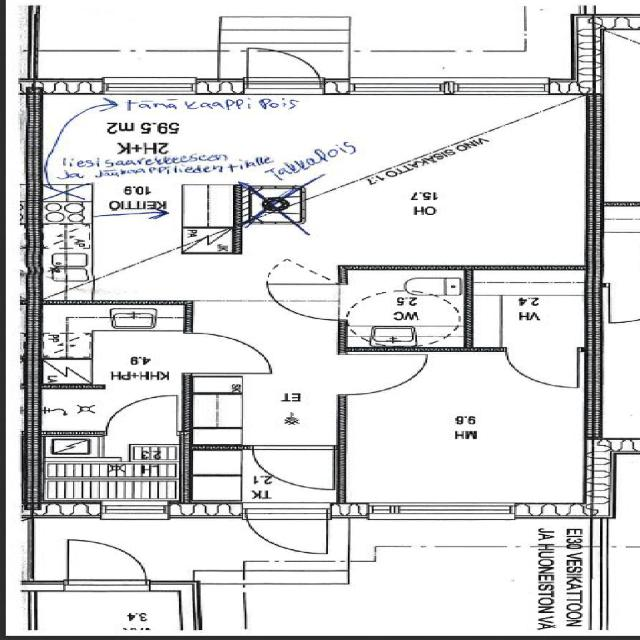door: (59, 536, 156, 588), (242, 504, 333, 558), (248, 444, 340, 496), (261, 278, 345, 322), (240, 46, 324, 88), (195, 330, 272, 374), (502, 351, 582, 388), (106, 392, 182, 430)
window: (359, 500, 519, 523), (443, 76, 553, 98), (94, 76, 202, 95), (344, 77, 446, 97), (93, 499, 176, 520)
zone: (39, 176, 236, 234), (338, 269, 468, 349), (464, 271, 592, 352), (34, 434, 182, 501), (23, 587, 198, 635)
